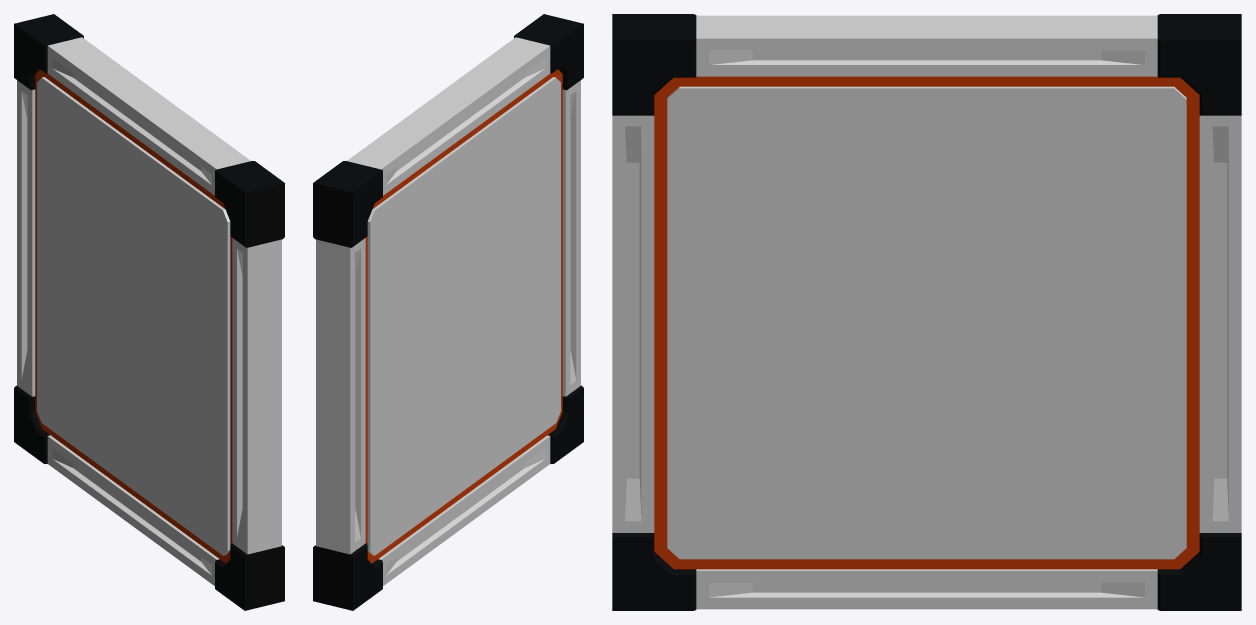
Rendered from SM_Wall_V0.obj.
3 views of the same model, side by side, from view 1: azimuth 30°, elevation 25°; view 2: azimuth 150°, elevation 25°; view 3: azimuth 270°, elevation 25° (orthographic). The views are drawn at different scales.
Parts seen in each view (by area): view 1: SM_Wall_V0; view 2: SM_Wall_V0; view 3: SM_Wall_V0.
Boxes of the visible parts, left/top/right/bottom form: SM_Wall_V0: left=14, top=14, right=284, bottom=610; SM_Wall_V0: left=313, top=14, right=583, bottom=610; SM_Wall_V0: left=612, top=14, right=1241, bottom=610.
Bounding box in the file's own units: 0.2 × 2 × 2.
